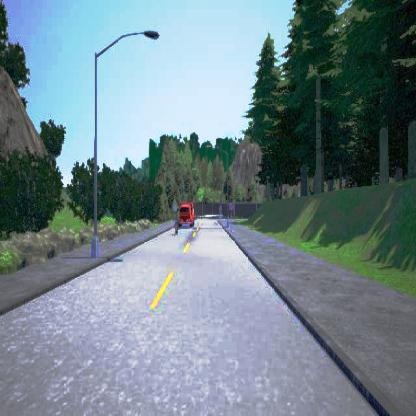vehicle: (178, 201, 194, 228)
